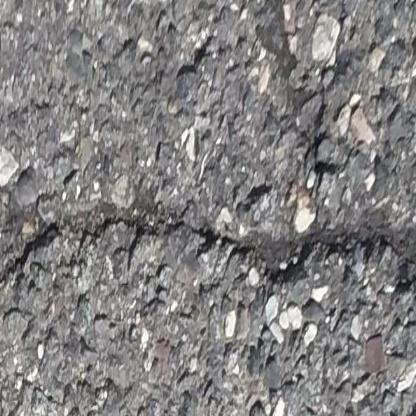Cracks: (0, 203, 416, 325), (248, 0, 317, 130)
